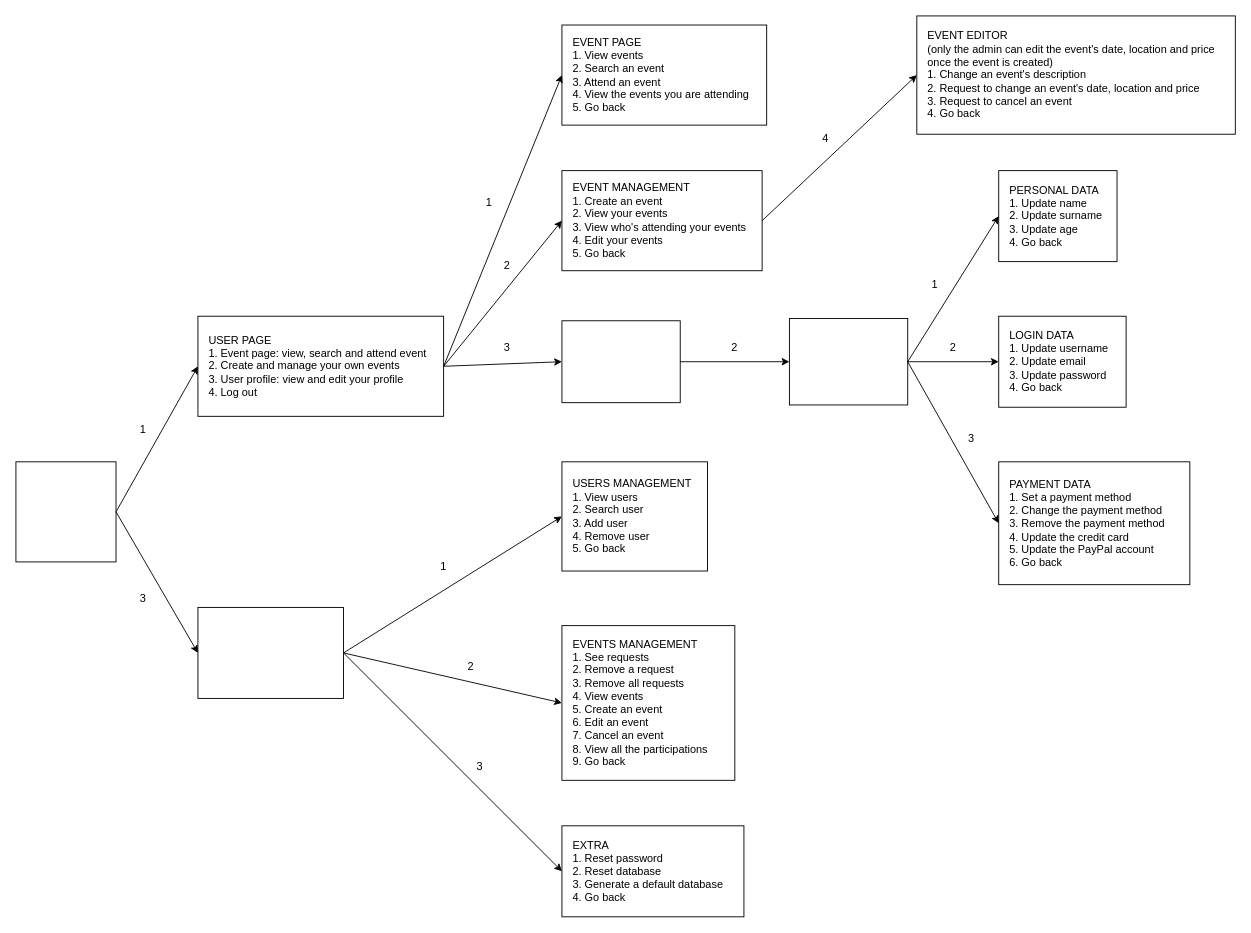
The diagram is 1251 pixels wide and 933 high, and some of its shapes have lost their labels. Each missing label, with the centre of its shape:
"ADMIN 1. Users management 2. Events management 3. Extra 4. Log out" goes at pixel 270 652.
"PROFILE EDITOR 1. Personal data 2. Login data 3. Payment data 4. Go back" goes at pixel 848 361.
"RENDEZVOUS 1. Sign in 2. Sign up 3. Admin 4. Exit" goes at pixel 65 511.
"USER PROFILE 1. View your profile 2. Edit your profile 3. Go back" goes at pixel 620 361.
